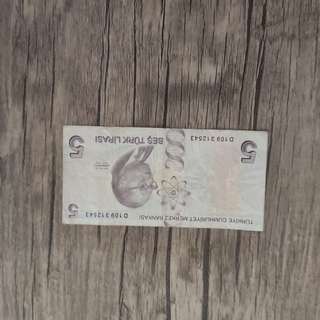5TLBack: (60, 124, 269, 233)
